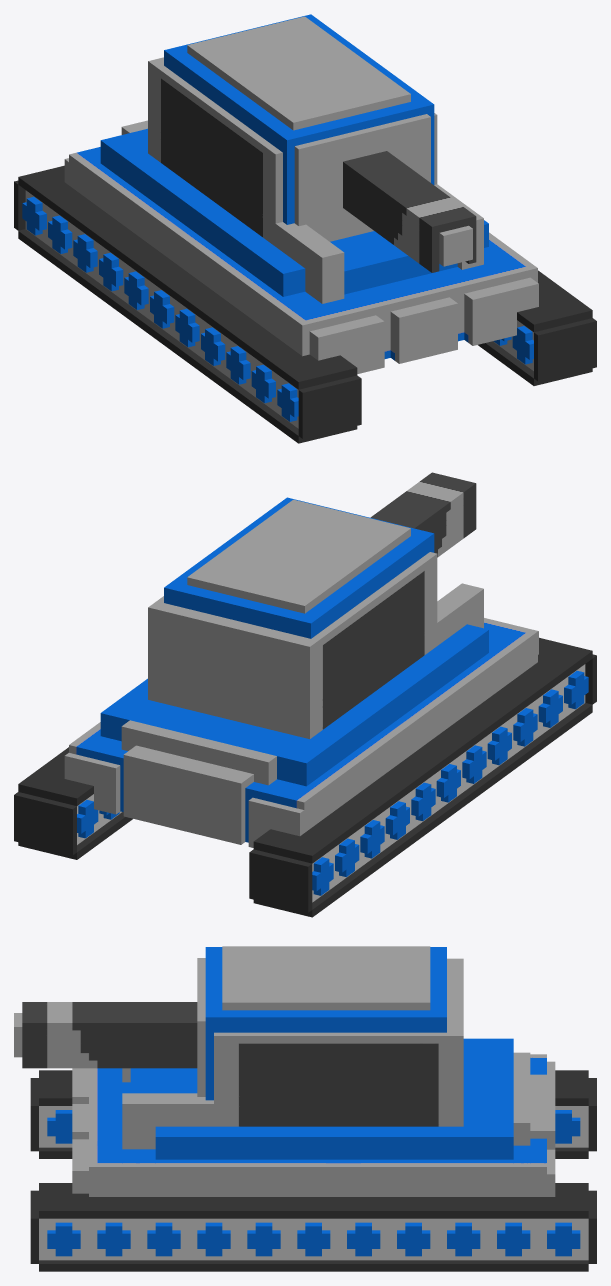
The model's file is Character_19.fbx.
3 renders of one model, top to bottom at view 1: azimuth 30°, elevation 25°; view 2: azimuth 150°, elevation 25°; view 3: azimuth 270°, elevation 25°, orthographic.
Parts seen in each view (by area): view 1: Character_19; view 2: Character_19; view 3: Character_19.
Part boxes in pixels (left/top/right/bottom): Character_19: left=14, top=14, right=596, bottom=443; Character_19: left=14, top=472, right=596, bottom=917; Character_19: left=14, top=946, right=596, bottom=1271.
Size of the model in its own units: 40 by 30 by 70.
